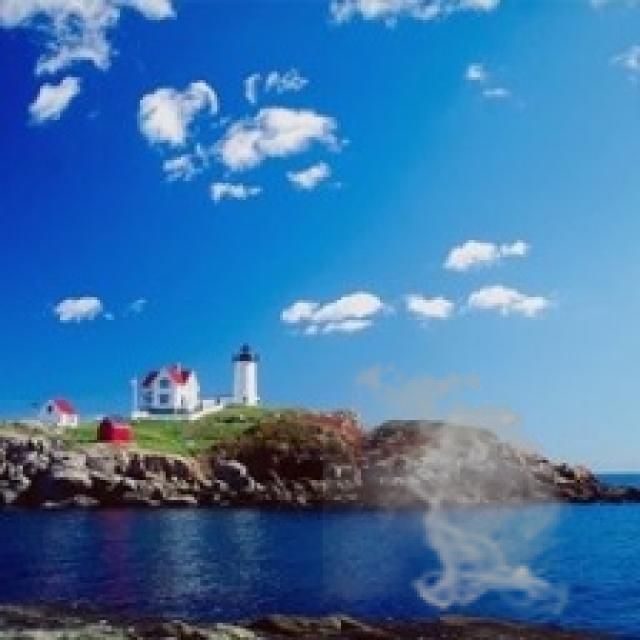smoke: (323, 354, 583, 614)
